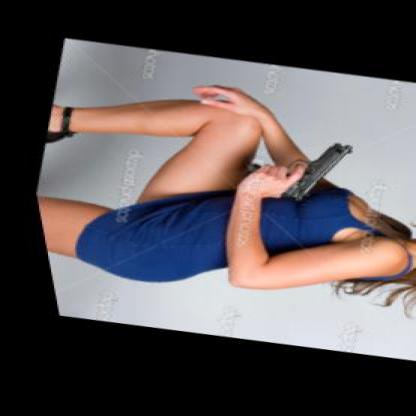pistol: (213, 122, 359, 212)
